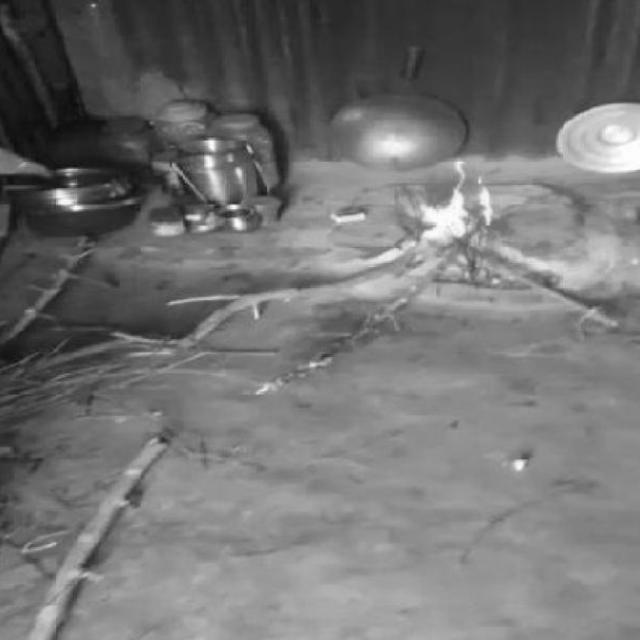smoke: (410, 162, 486, 248)
